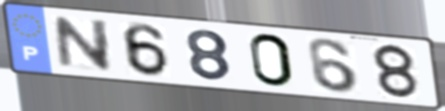0: (246, 32, 297, 90)
6: (306, 37, 363, 96), (119, 21, 170, 80)
8: (370, 41, 423, 101), (184, 28, 235, 83)
N: (51, 16, 115, 74)
